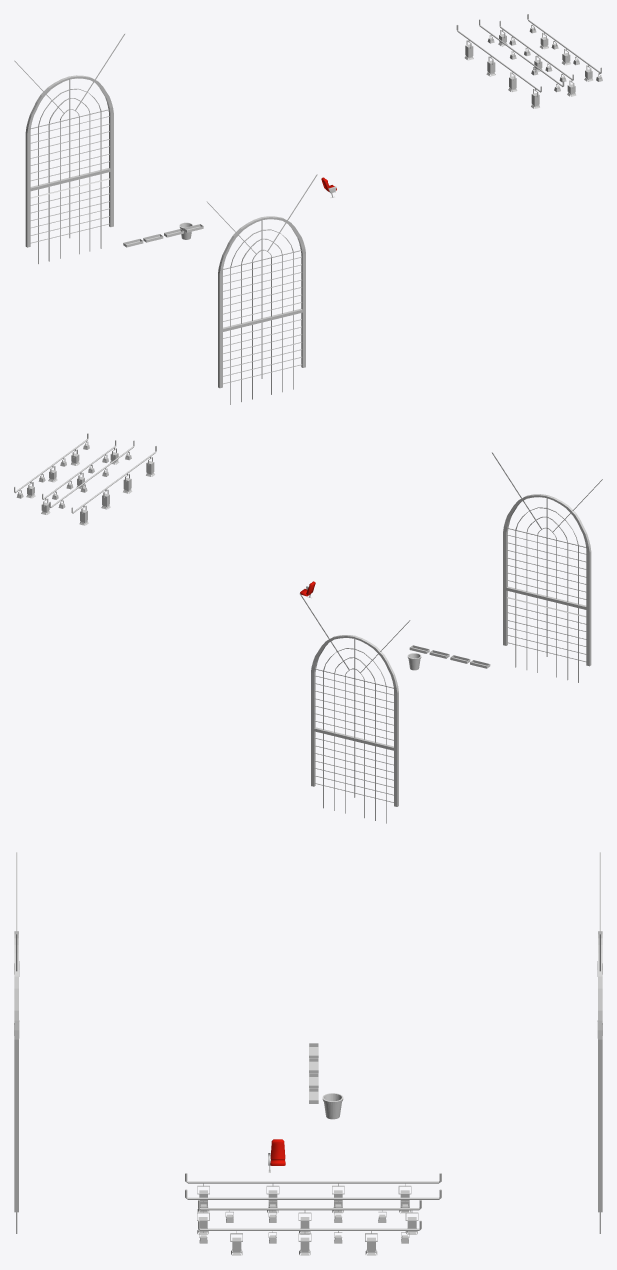
File: 25_06_2020_adds.fbx
The picture shows the model from 3 angles, top to bottom: view 1: azimuth 30°, elevation 25°; view 2: azimuth 150°, elevation 25°; view 3: azimuth 270°, elevation 25°; orthographic projection. The views are drawn at different scales.
Visible parts, largest first — view 1: Cube.031, Cube.032; view 2: Cube.032, Cube.031; view 3: Cube.031, Cube.032, Cylinder.001, Cylinder.002, Cylinder, Cylinder.003, Cube.005.
Boxes of the visible parts, x1,y1,x2,y2 form: Cube.031: [14, 34, 124, 264]; Cube.032: [206, 174, 317, 404]; Cube.032: [491, 452, 602, 682]; Cube.031: [299, 593, 410, 823]; Cube.031: [597, 852, 602, 1233]; Cube.032: [14, 852, 19, 1233]; Cylinder.001: [185, 1173, 441, 1183]; Cylinder.002: [185, 1189, 441, 1199]; Cylinder: [198, 1220, 421, 1230]; Cylinder.003: [198, 1200, 421, 1210]; Cube.005: [309, 1043, 318, 1103].
Bounding box in the file's own units: 1282 × 559 × 940.
